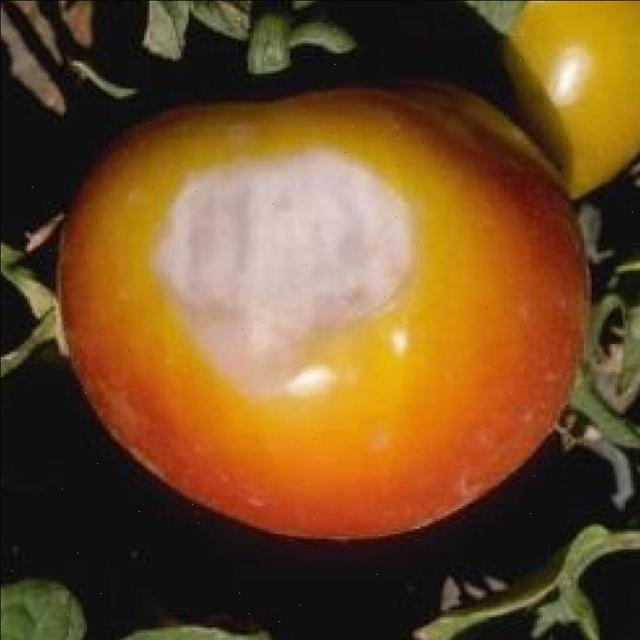Sunscald Fruit: (105, 90, 301, 272)
